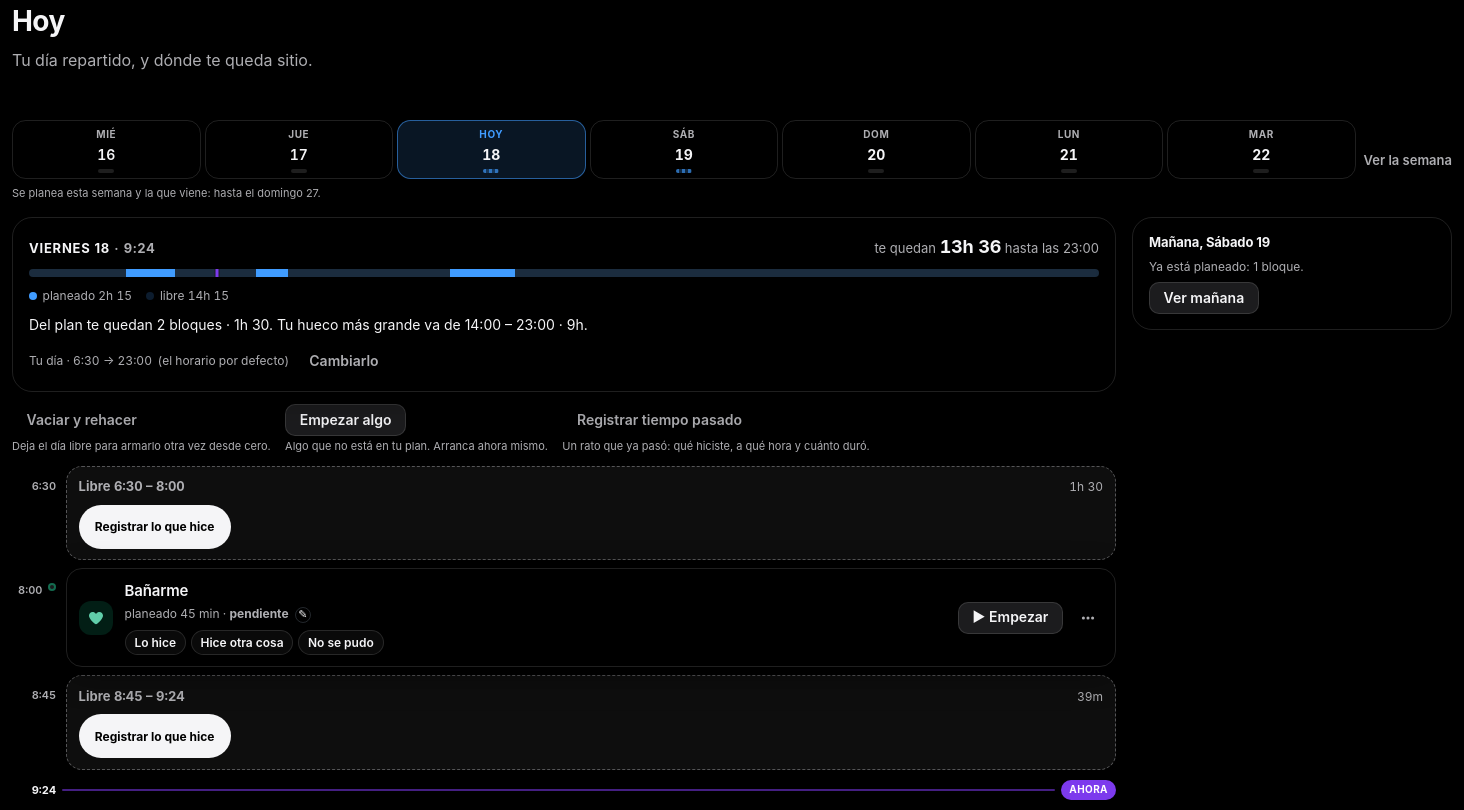
Test: VidaHoyPage — cualquier día (tajada 4) › criterio 31 — un toque en otro día cambia lo que muestra la agenda
The width and height of the screenshot is (1464, 810).
Step 1. Click the link with aria-label "sábado 19" → {"x": 684, "y": 149}, box [590,120,778,179]
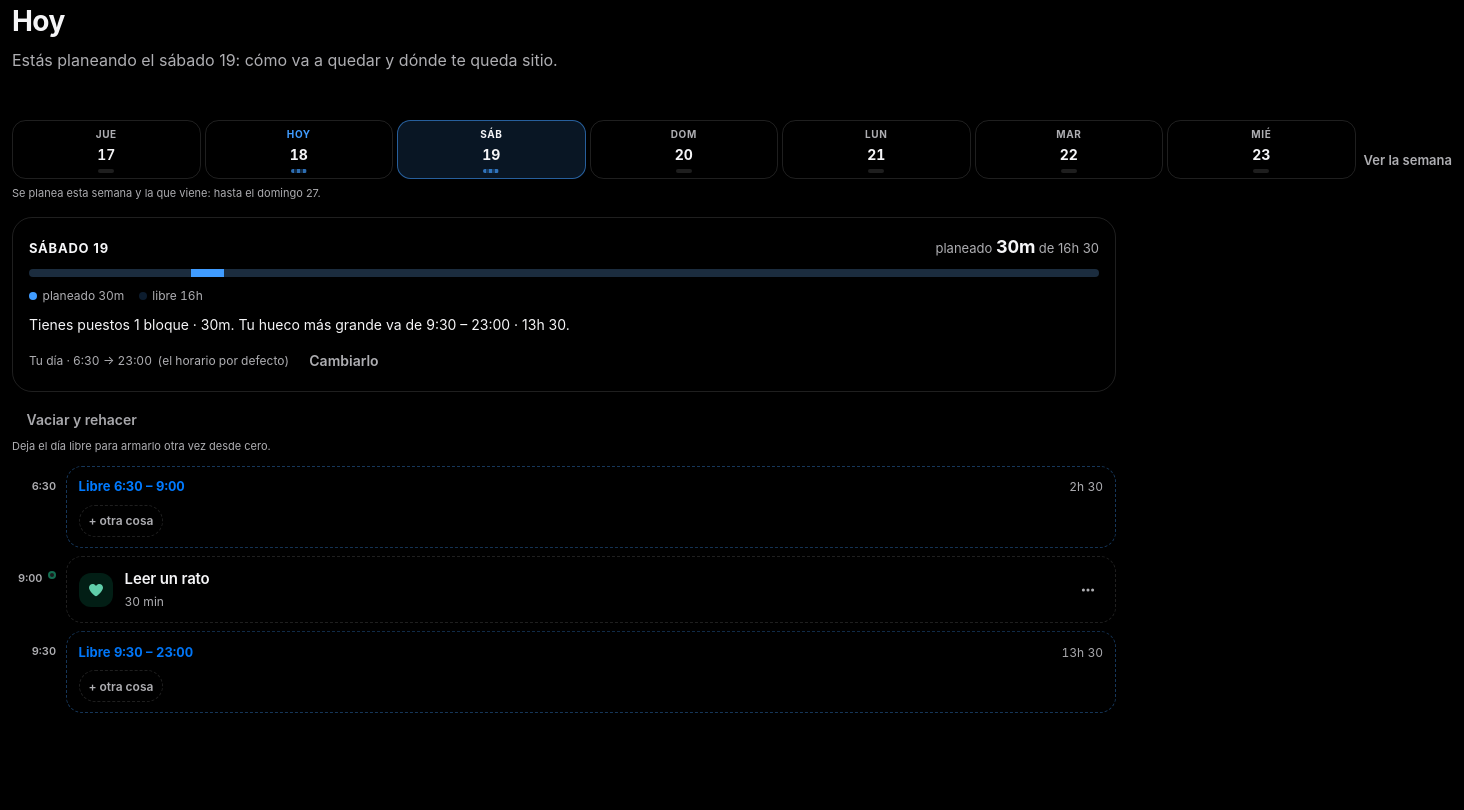
Expected: the text "Leer un rato" is shown, [125,569,210,588]
Now the text "Sábado 19" is shown, box [29,240,109,256]
